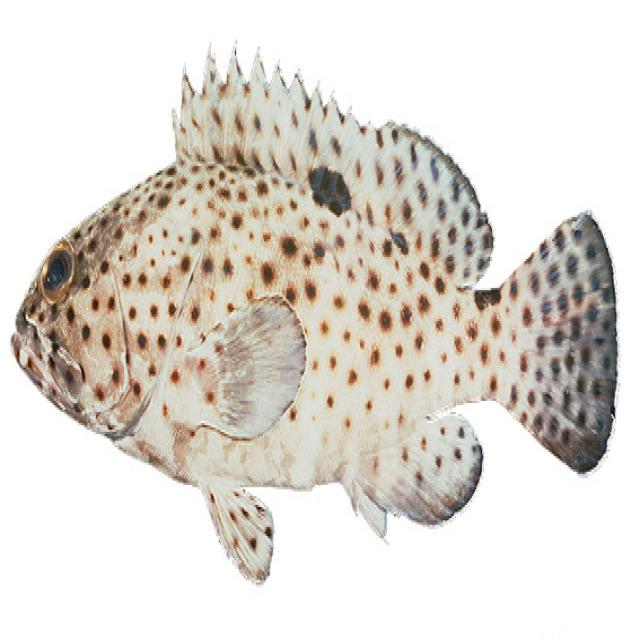ikan: (10, 40, 619, 587)
